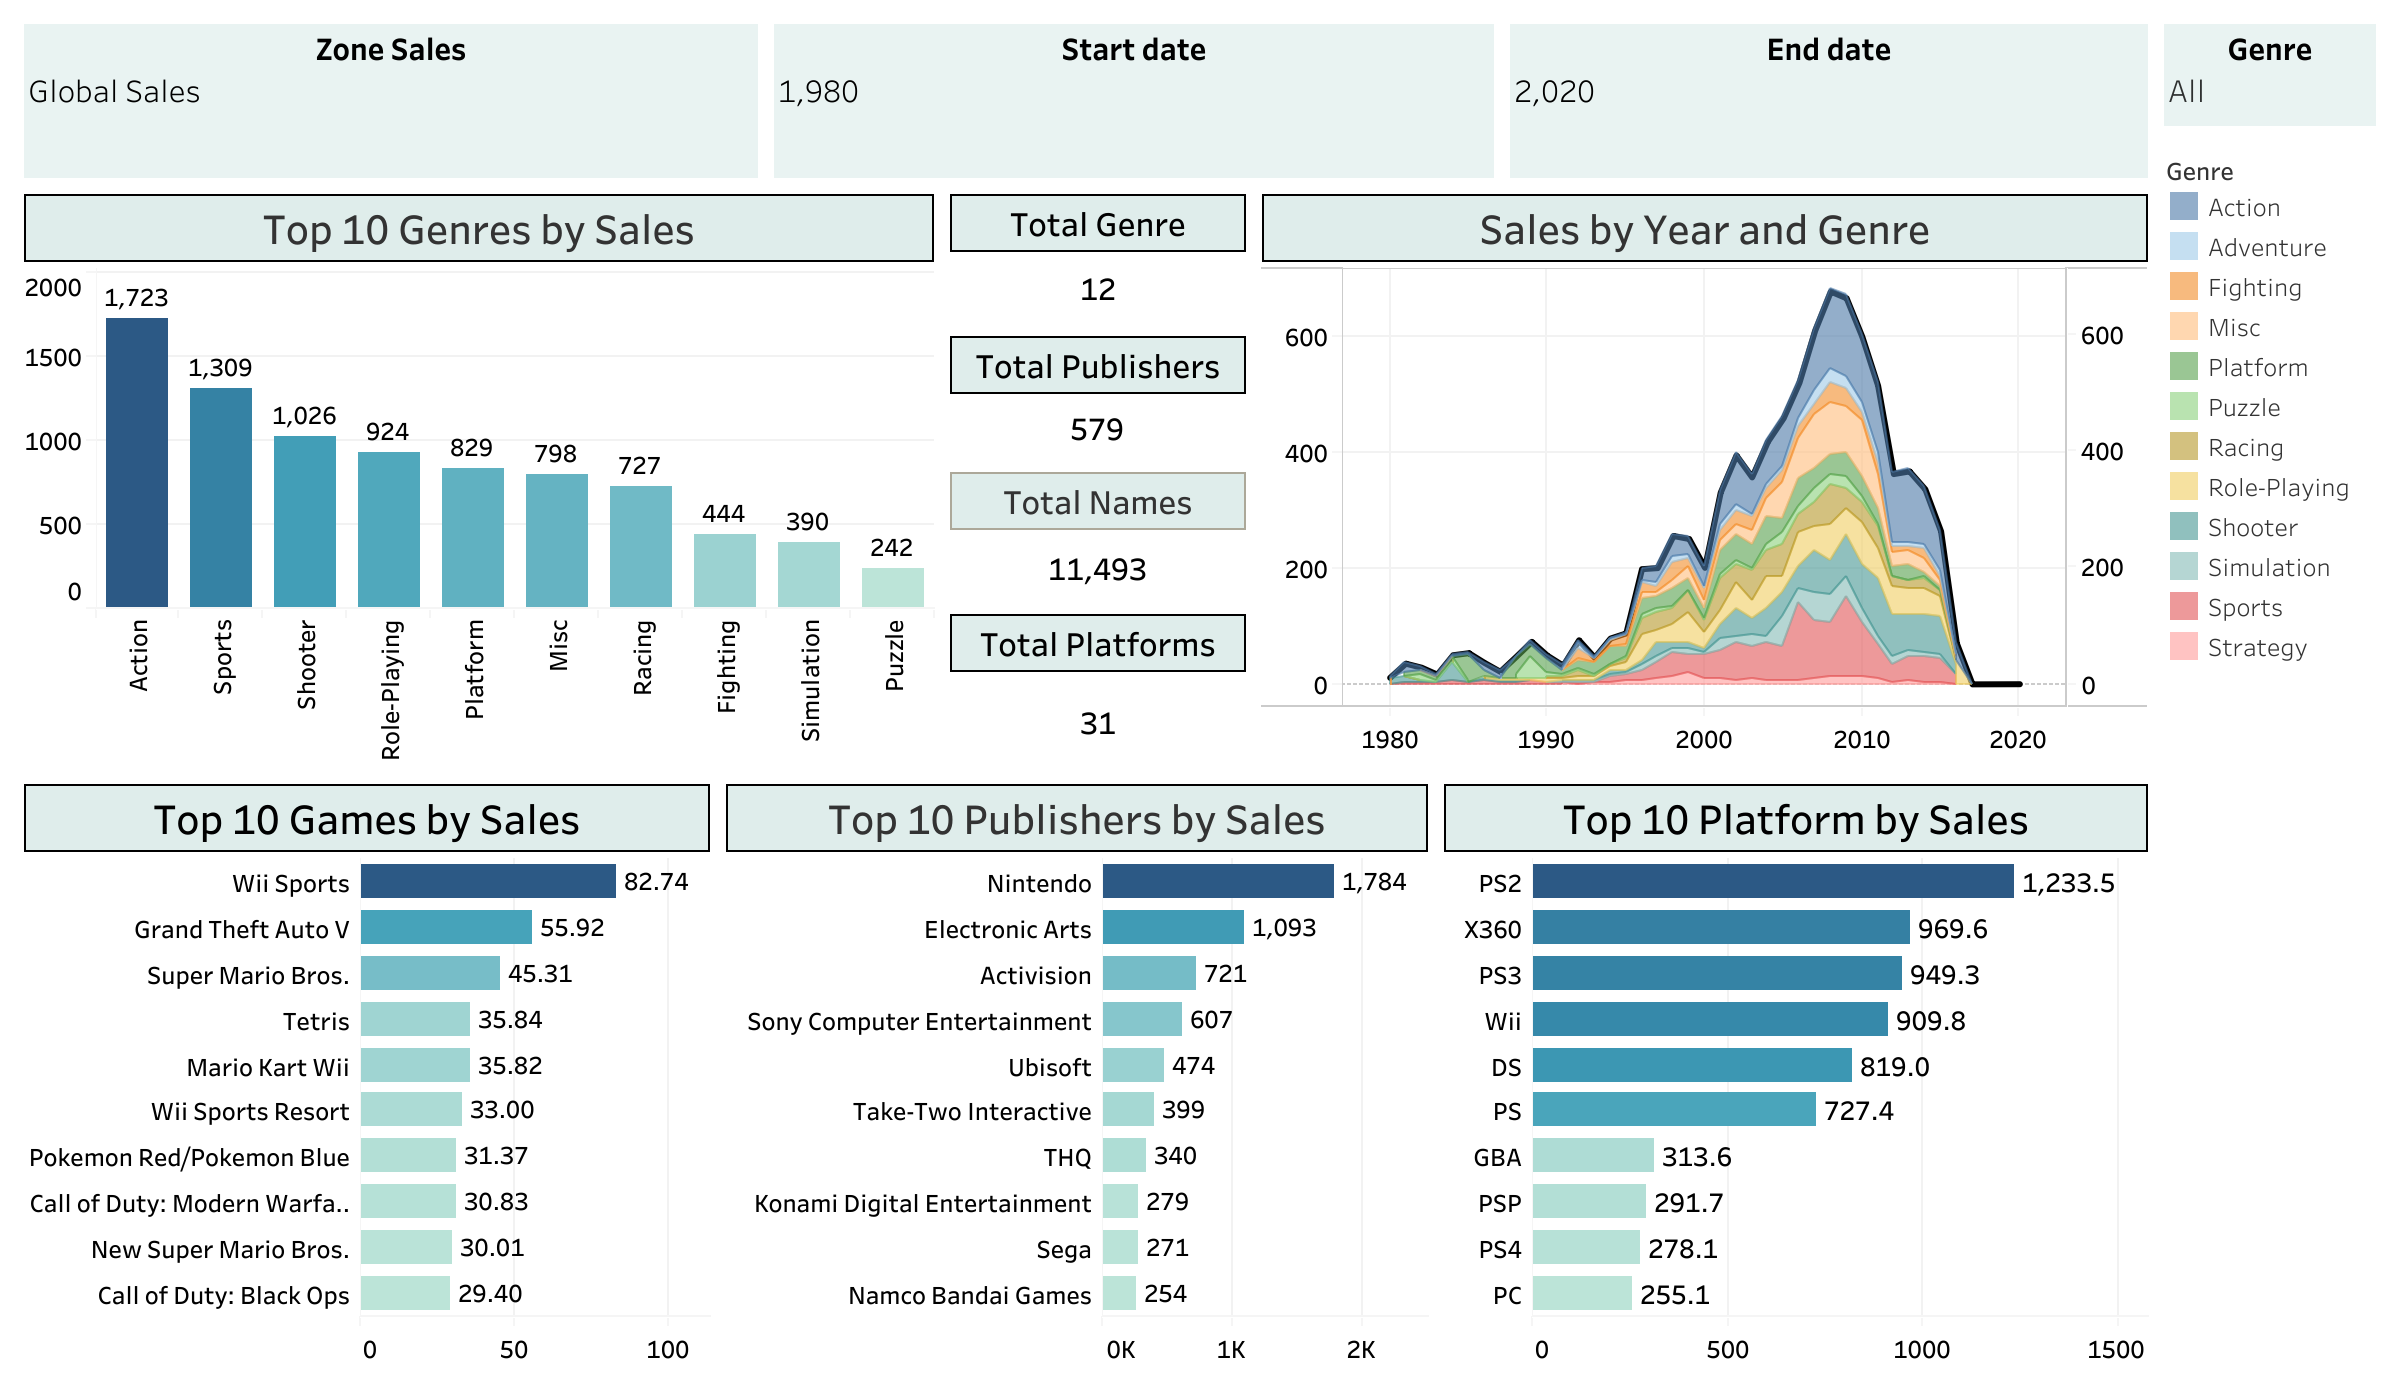

The dashboard page shown, as its layout file describes it:
{"tool":"tableau","page":{"name":"Dashboard 1","canvas":[1200,700],"ordinal":0},"visuals":[{"type":"parameter","param":"[Parameters].[Parameter 1]","box":[8,8,375,85]},{"type":"parameter","param":"[Parameters].[Parameter 2]","box":[383,8,368.3,85]},{"type":"parameter","param":"[Parameters].[Parameter 3]","box":[751.3,8,326.7,85]},{"type":"filter","title":"Sales by Year and Genre","param":"[federated.0ckgvpi0iwgblb102abf91njelem].[none:Genre:nk]","box":[1078,8,114,56]},{"type":"legend","title":"Sales by Year and Genre","param":"[federated.0ckgvpi0iwgblb102abf91njelem].[none:Genre:nk]","box":[1078,70,114,266]},{"type":"worksheet","title":"Top 10 Genres by Sales","mark":"Automatic","rows":["Calculation_272115975386030080"],"cols":["Genre"],"box":[8,93,463,295]},{"type":"worksheet","title":"Total Genre","mark":"Automatic","box":[471,93,155.6,71]},{"type":"worksheet","title":"Sales by Year and Genre","mark":"Automatic","rows":["Calculation_272115975386030080","Calculation_272115975386030080"],"cols":["Year"],"box":[626.6,93,451.4,295]},{"type":"worksheet","title":"Total Publishers","mark":"Automatic","box":[471,164,155.6,68]},{"type":"worksheet","title":"Total Names","mark":"Automatic","box":[471,232,155.6,71.5]},{"type":"worksheet","title":"Total Platforms","mark":"Automatic","box":[471,303.5,155.6,84.5]},{"type":"worksheet","title":"Top 10 Games by Sales","mark":"Automatic","rows":["Name"],"cols":["Calculation_272115975386030080"],"box":[8,388,350.6,304]},{"type":"worksheet","title":"Top 10 Publishers by Sales","mark":"Automatic","rows":["Publisher"],"cols":["Calculation_272115975386030080"],"box":[358.6,388,359.7,304]},{"type":"worksheet","title":"Top 10 Platform by Sales","mark":"Automatic","rows":["Platform"],"cols":["Calculation_272115975386030080"],"box":[718.3,388,359.7,304]}]}

Visuals, with their boxes in screenshot pixels (x1, y1, x2, y2), scaled from the page's 1200x700 canvas onto the 2398x1398 screenshot:
parameter: pyautogui.locateOnScreen(16, 16, 765, 186)
parameter: pyautogui.locateOnScreen(765, 16, 1501, 186)
parameter: pyautogui.locateOnScreen(1501, 16, 2154, 186)
"Sales by Year and Genre" filter: pyautogui.locateOnScreen(2154, 16, 2382, 128)
"Sales by Year and Genre" legend: pyautogui.locateOnScreen(2154, 140, 2382, 671)
"Top 10 Genres by Sales" worksheet: pyautogui.locateOnScreen(16, 186, 941, 775)
"Total Genre" worksheet: pyautogui.locateOnScreen(941, 186, 1252, 328)
"Sales by Year and Genre" worksheet: pyautogui.locateOnScreen(1252, 186, 2154, 775)
"Total Publishers" worksheet: pyautogui.locateOnScreen(941, 328, 1252, 463)
"Total Names" worksheet: pyautogui.locateOnScreen(941, 463, 1252, 606)
"Total Platforms" worksheet: pyautogui.locateOnScreen(941, 606, 1252, 775)
"Top 10 Games by Sales" worksheet: pyautogui.locateOnScreen(16, 775, 717, 1382)
"Top 10 Publishers by Sales" worksheet: pyautogui.locateOnScreen(717, 775, 1435, 1382)
"Top 10 Platform by Sales" worksheet: pyautogui.locateOnScreen(1435, 775, 2154, 1382)
